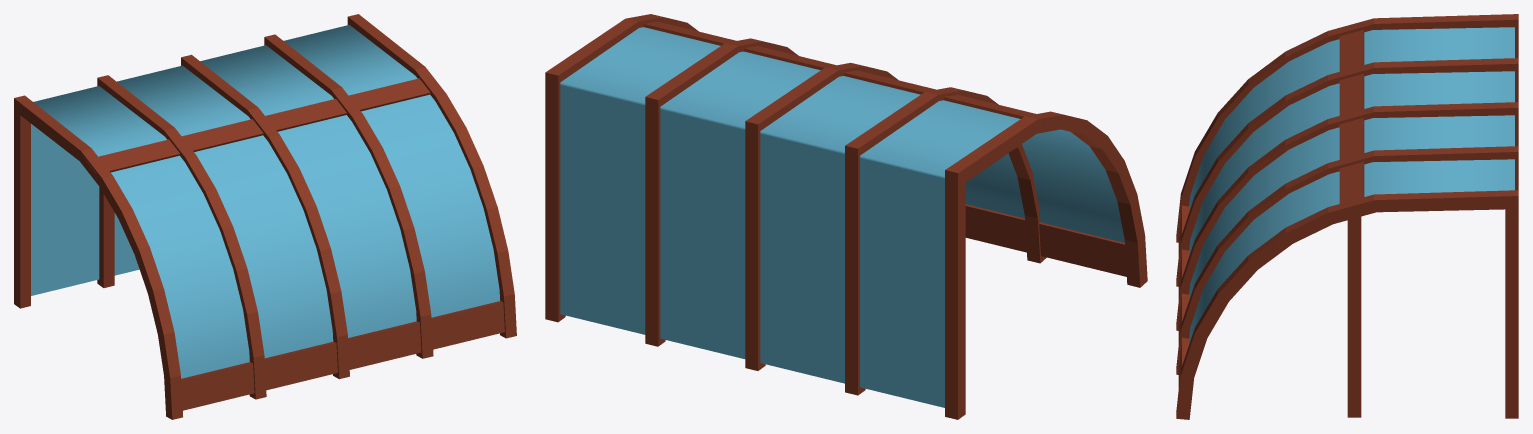
The model's file is shed_2.fbx.
The picture shows the model from 3 angles, left to right: view 1: azimuth 30°, elevation 25°; view 2: azimuth 150°, elevation 25°; view 3: azimuth 270°, elevation 25°; orthographic projection. The views are drawn at different scales.
Visible parts, largest first — view 1: shed_2; view 2: shed_2; view 3: shed_2.
Part boxes in pixels (bbox=[...]): shed_2: bbox=[14, 14, 516, 419]; shed_2: bbox=[545, 14, 1147, 419]; shed_2: bbox=[1176, 14, 1518, 419].
Size of the model in its own units: 1273 by 730 by 1012.
